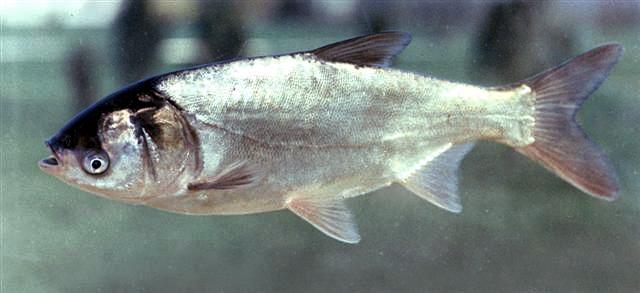Mulut: (32, 123, 72, 186)
Sirip Dada: (192, 156, 262, 202)
Sirip Ekor: (526, 31, 634, 205)
Sirip Perut: (286, 186, 366, 246)
Sirip Punggung: (397, 125, 483, 217), (316, 26, 416, 72)
